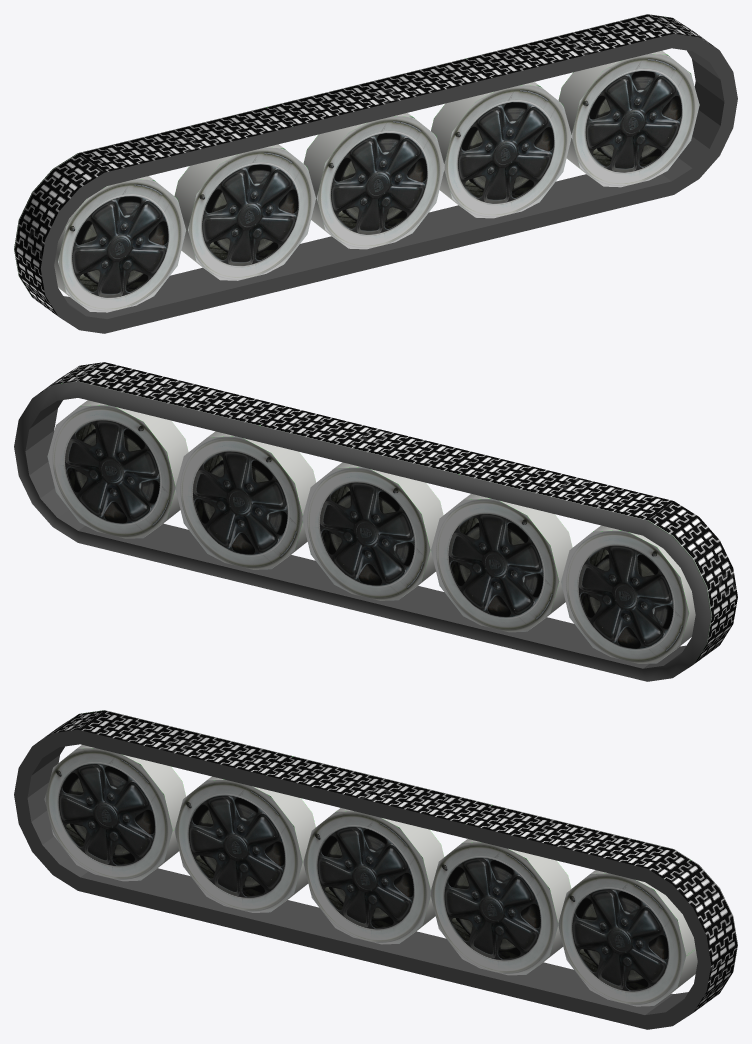
The model's file is ruedas tanque.FBX.
3 views of the same model, one above another, from view 1: azimuth 30°, elevation 25°; view 2: azimuth 150°, elevation 25°; view 3: azimuth 330°, elevation 25° (orthographic).
Parts seen in each view (by area): view 1: Cylinder005, Cylinder008, Cylinder007, Cylinder003, Cylinder006, Cylinder009; view 2: Cylinder005, Cylinder008, Cylinder007, Cylinder003, Cylinder006, Cylinder009; view 3: Cylinder005, Cylinder009, Cylinder008, Cylinder006, Cylinder007, Cylinder003.
Part boxes in pixels (<box>): Cylinder005: <box>14,14,737,333</box>; Cylinder008: <box>174,144,315,280</box>; Cylinder007: <box>303,113,444,249</box>; Cylinder003: <box>558,51,699,187</box>; Cylinder006: <box>431,82,571,218</box>; Cylinder009: <box>54,176,186,312</box>; Cylinder005: <box>14,362,737,681</box>; Cylinder008: <box>431,494,572,632</box>; Cylinder007: <box>302,462,443,600</box>; Cylinder003: <box>47,400,188,538</box>; Cylinder006: <box>175,431,316,569</box>; Cylinder009: <box>561,525,695,663</box>; Cylinder005: <box>14,710,737,1029</box>; Cylinder009: <box>44,745,185,881</box>; Cylinder008: <box>174,776,315,912</box>; Cylinder006: <box>430,839,571,975</box>; Cylinder007: <box>303,808,444,944</box>; Cylinder003: <box>558,870,697,1006</box>.
Bounding box in the file's own units: 36.61 × 8.09 × 2.62.
Materials: 2 (2 with a texture image).
